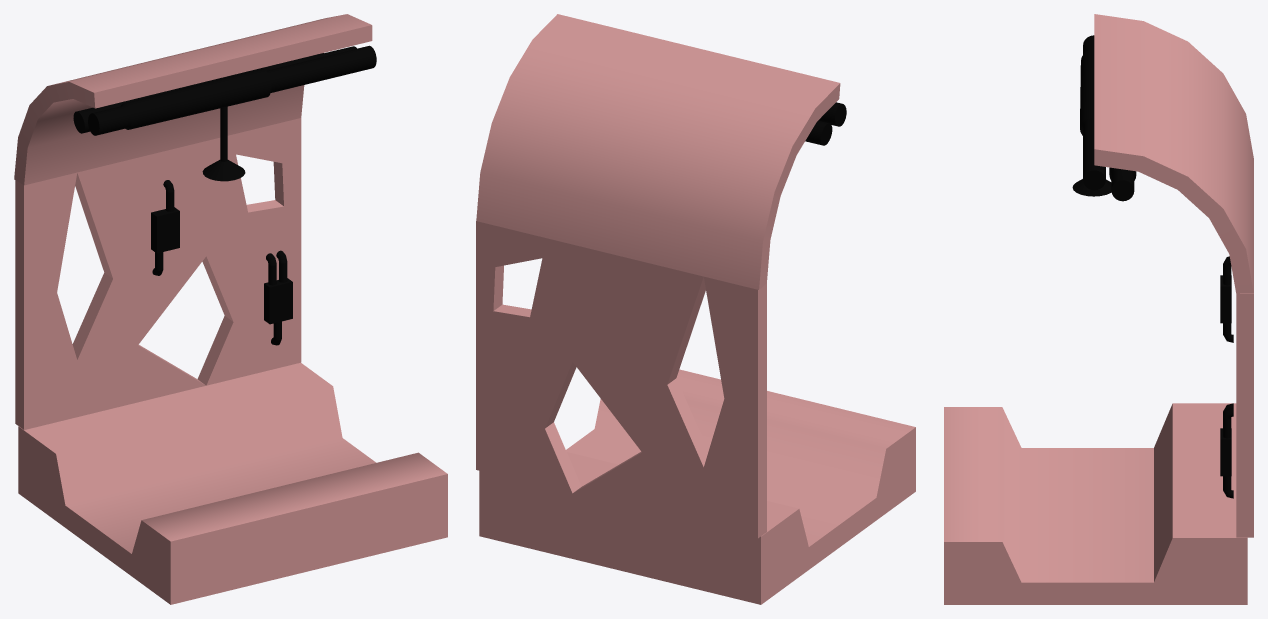
Rendered from sewer_room4.fbx.
3 views of the same model, side by side, from view 1: azimuth 30°, elevation 25°; view 2: azimuth 150°, elevation 25°; view 3: azimuth 270°, elevation 25° (orthographic). The views are drawn at different scales.
Visible parts, largest first — view 1: room4_walls, room4_metal; view 2: room4_walls, room4_metal; view 3: room4_walls, room4_metal.
Part boxes in pixels (x1,y1,x2,y2): room4_walls: (14,14,447,604); room4_metal: (73,45,376,345); room4_walls: (476,14,915,604); room4_metal: (805,102,846,145); room4_walls: (944,14,1253,604); room4_metal: (1072,35,1233,498).
Size of the model in its own units: 2.02 by 3.15 by 1.94.
